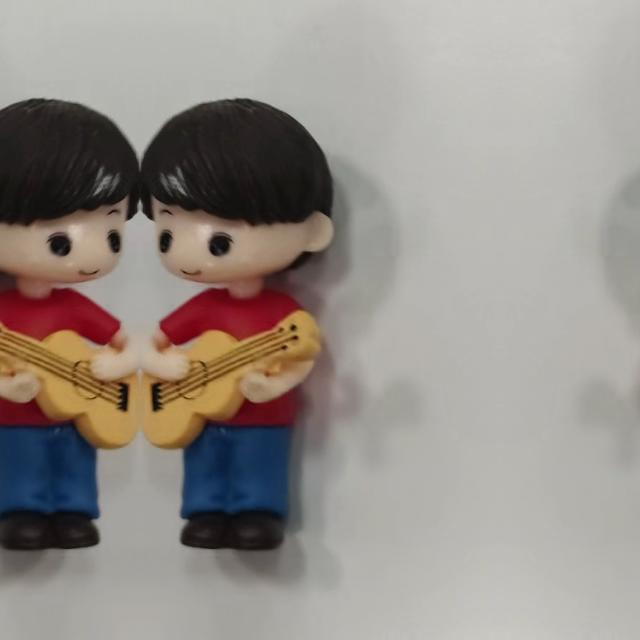man cloth: (156, 286, 304, 428), (0, 286, 124, 427)
man head: (140, 92, 338, 296), (0, 92, 140, 295)
trousers: (172, 420, 292, 550), (0, 419, 108, 550)
